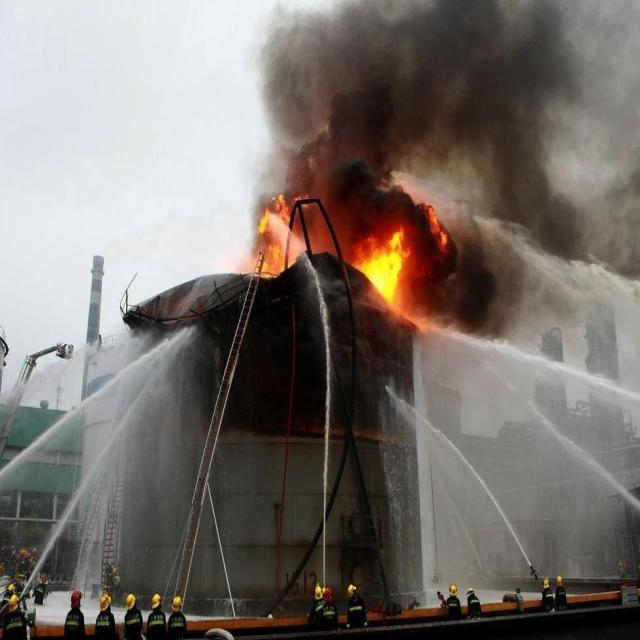Fire: (249, 190, 309, 279), (349, 223, 411, 306), (424, 202, 448, 252)
Smoke: (232, 1, 640, 341)
